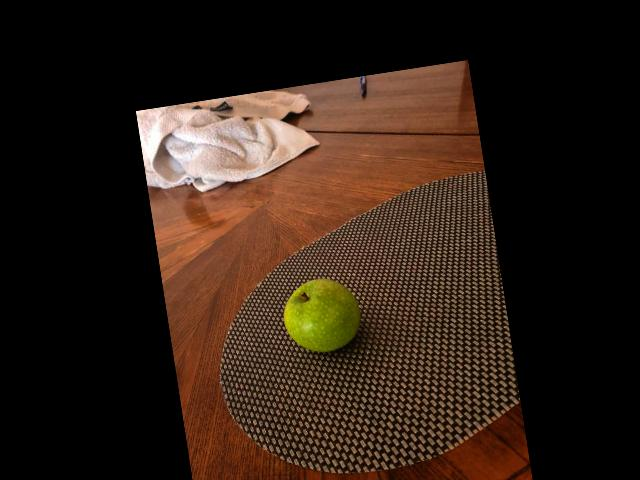apple: (279, 274, 361, 357)
